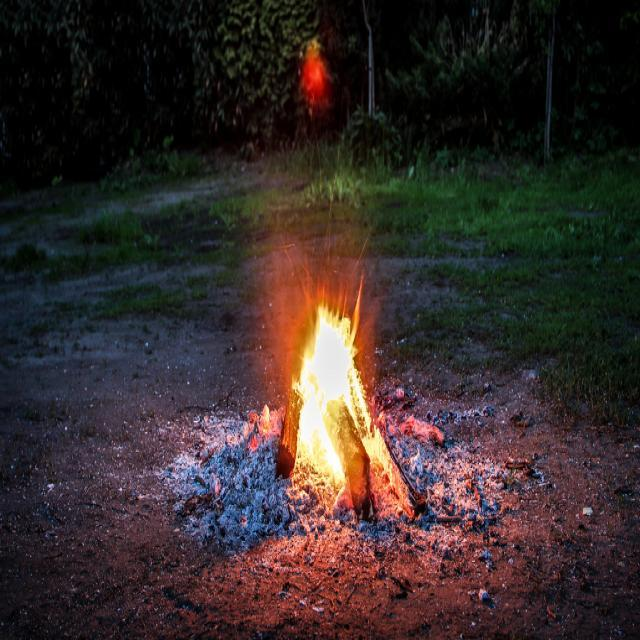Fire: (288, 290, 378, 485)
